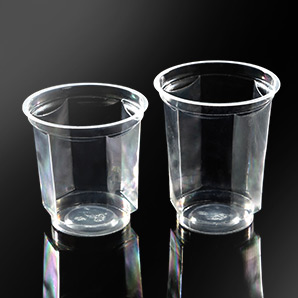plastic_glass: (152, 54, 283, 245), (16, 75, 152, 243)
